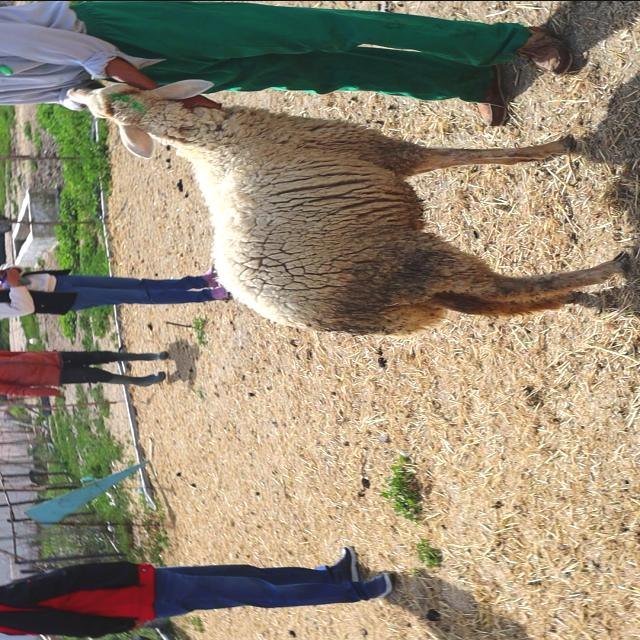Score_4: (68, 79, 628, 335)
